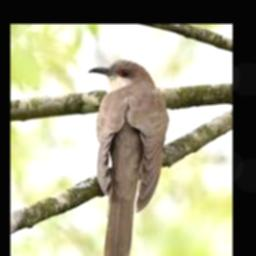Cuckoo: (89, 59, 168, 256)
